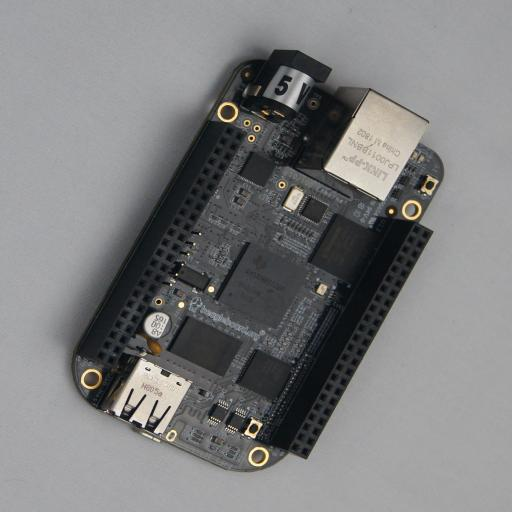Beaglebone Black: (67, 45, 444, 472)
